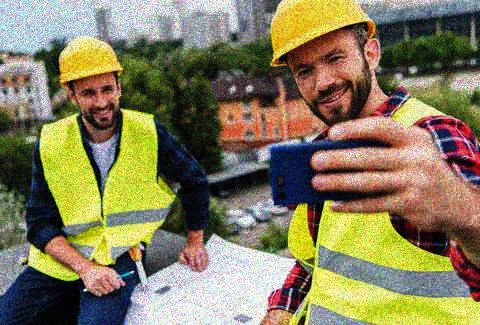helmet: (268, 1, 382, 126), (57, 34, 126, 127)
